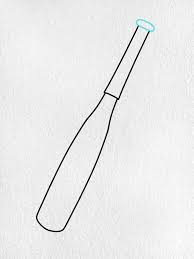baseball bat: (33, 18, 155, 233)
